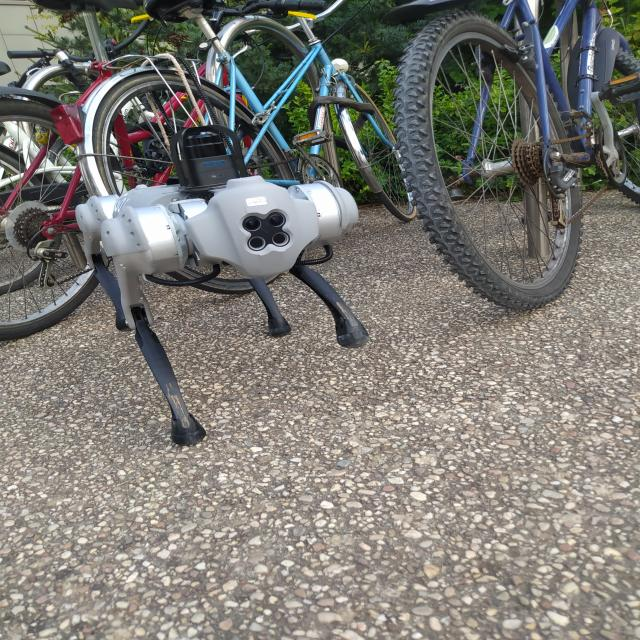unitree-go1-robot: (52, 116, 401, 456)
